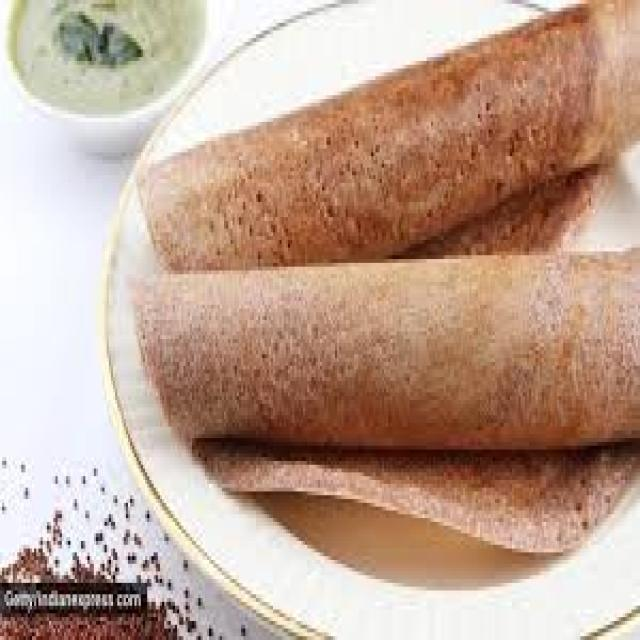DOSA: (130, 240, 638, 549), (137, 0, 638, 276)
